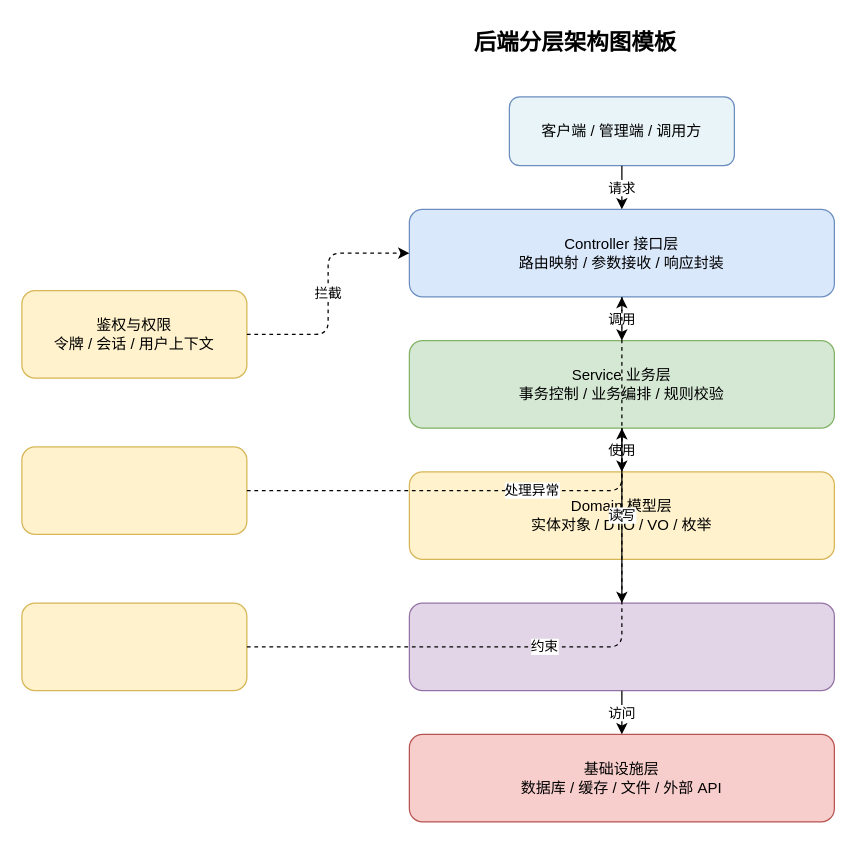
This 856x844 diagram has some shape labels left out. The shapes that lost their labels are listed below. From the top down, each one's box as (x1, y1, x2, y2) in pixels, then its label:
(21, 446, 247, 534): 统一异常处理 错误码 / 日志 / 返回体
(21, 602, 247, 691): 配置与安全 跨域 / 文件限制 / 权限
(408, 602, 834, 691): Mapper / Repository 数据访问层 SQL 映射 / 查询封装
